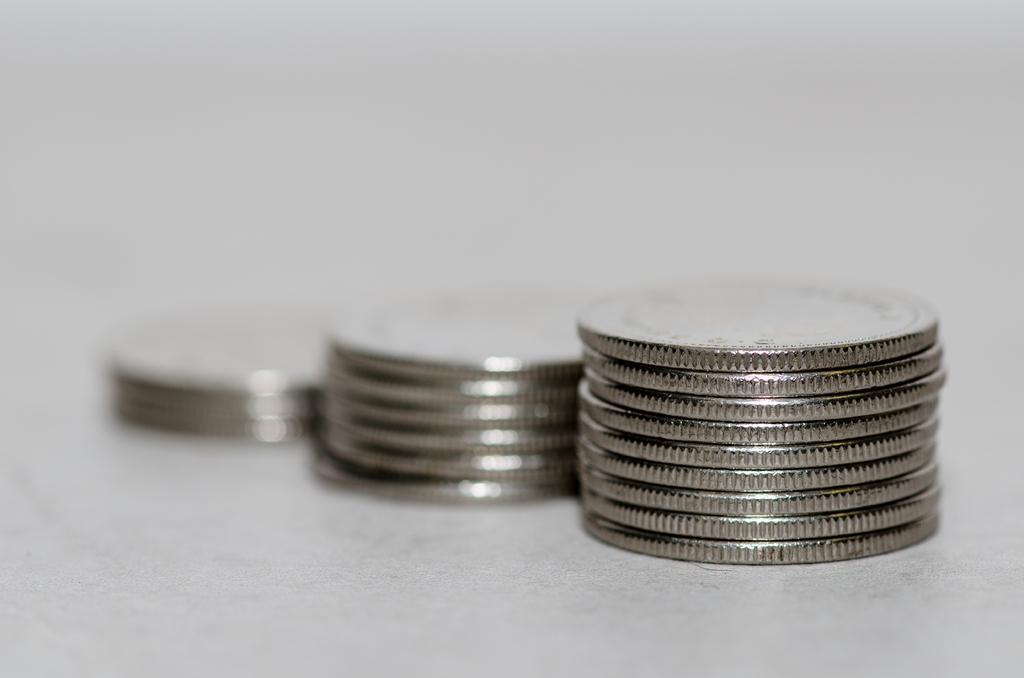Coin: (97, 262, 952, 564)
